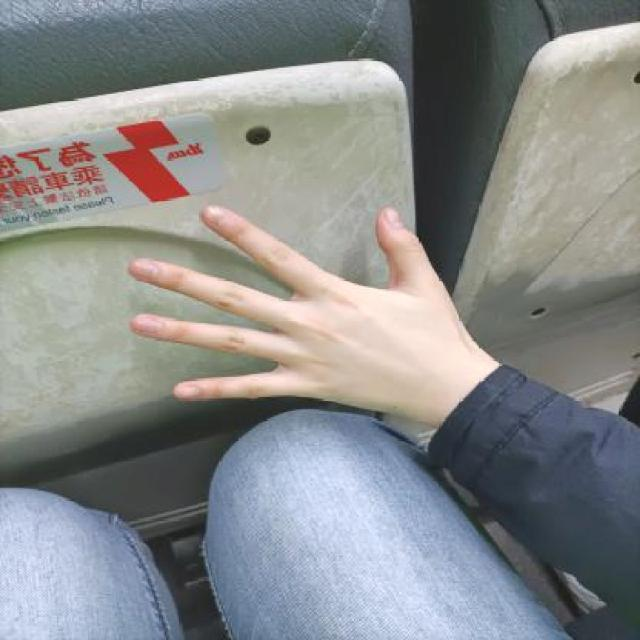no_glove: (110, 172, 518, 437)
